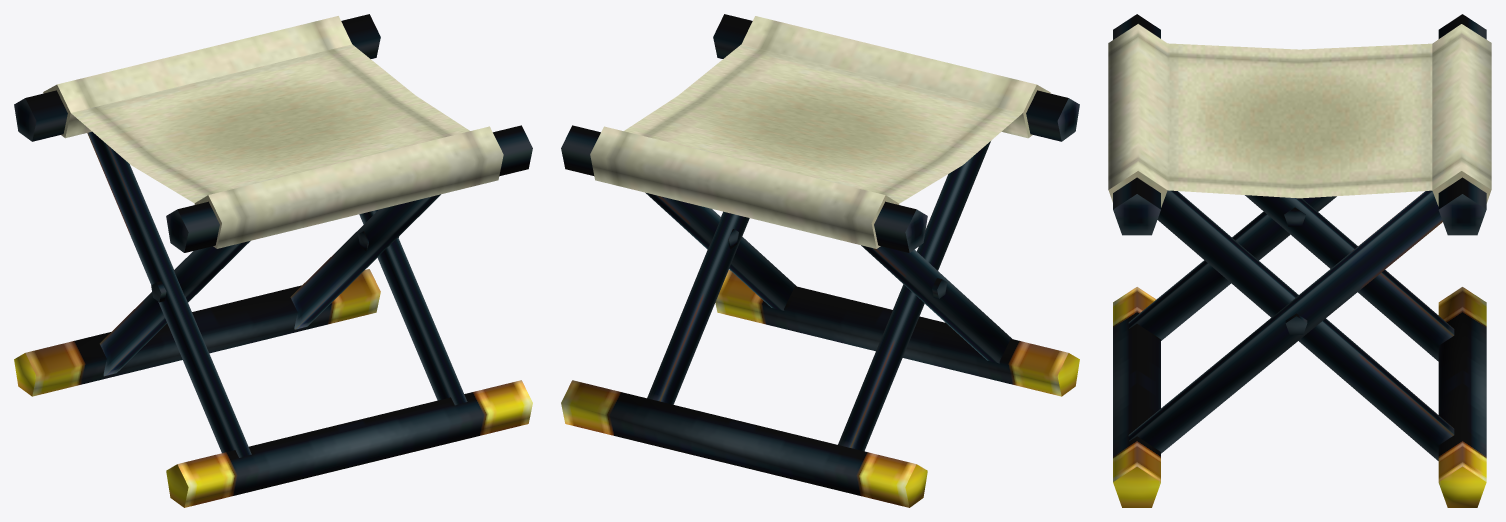
File: int_frt_chairS.dae
The picture shows the model from 3 angles, left to right: view 1: azimuth 30°, elevation 25°; view 2: azimuth 150°, elevation 25°; view 3: azimuth 270°, elevation 25°; orthographic projection. The views are drawn at different scales.
Parts seen in each view (by area): view 1: int_frt_chairS; view 2: int_frt_chairS; view 3: int_frt_chairS.
Part boxes in pixels (x1=…): int_frt_chairS: x1=14, y1=14, x2=532, y2=507; int_frt_chairS: x1=561, y1=14, x2=1079, y2=507; int_frt_chairS: x1=1108, y1=14, x2=1491, y2=507.
Size of the model in its own units: 19.93 by 16.28 by 17.62.
1 material, 1 textured.
